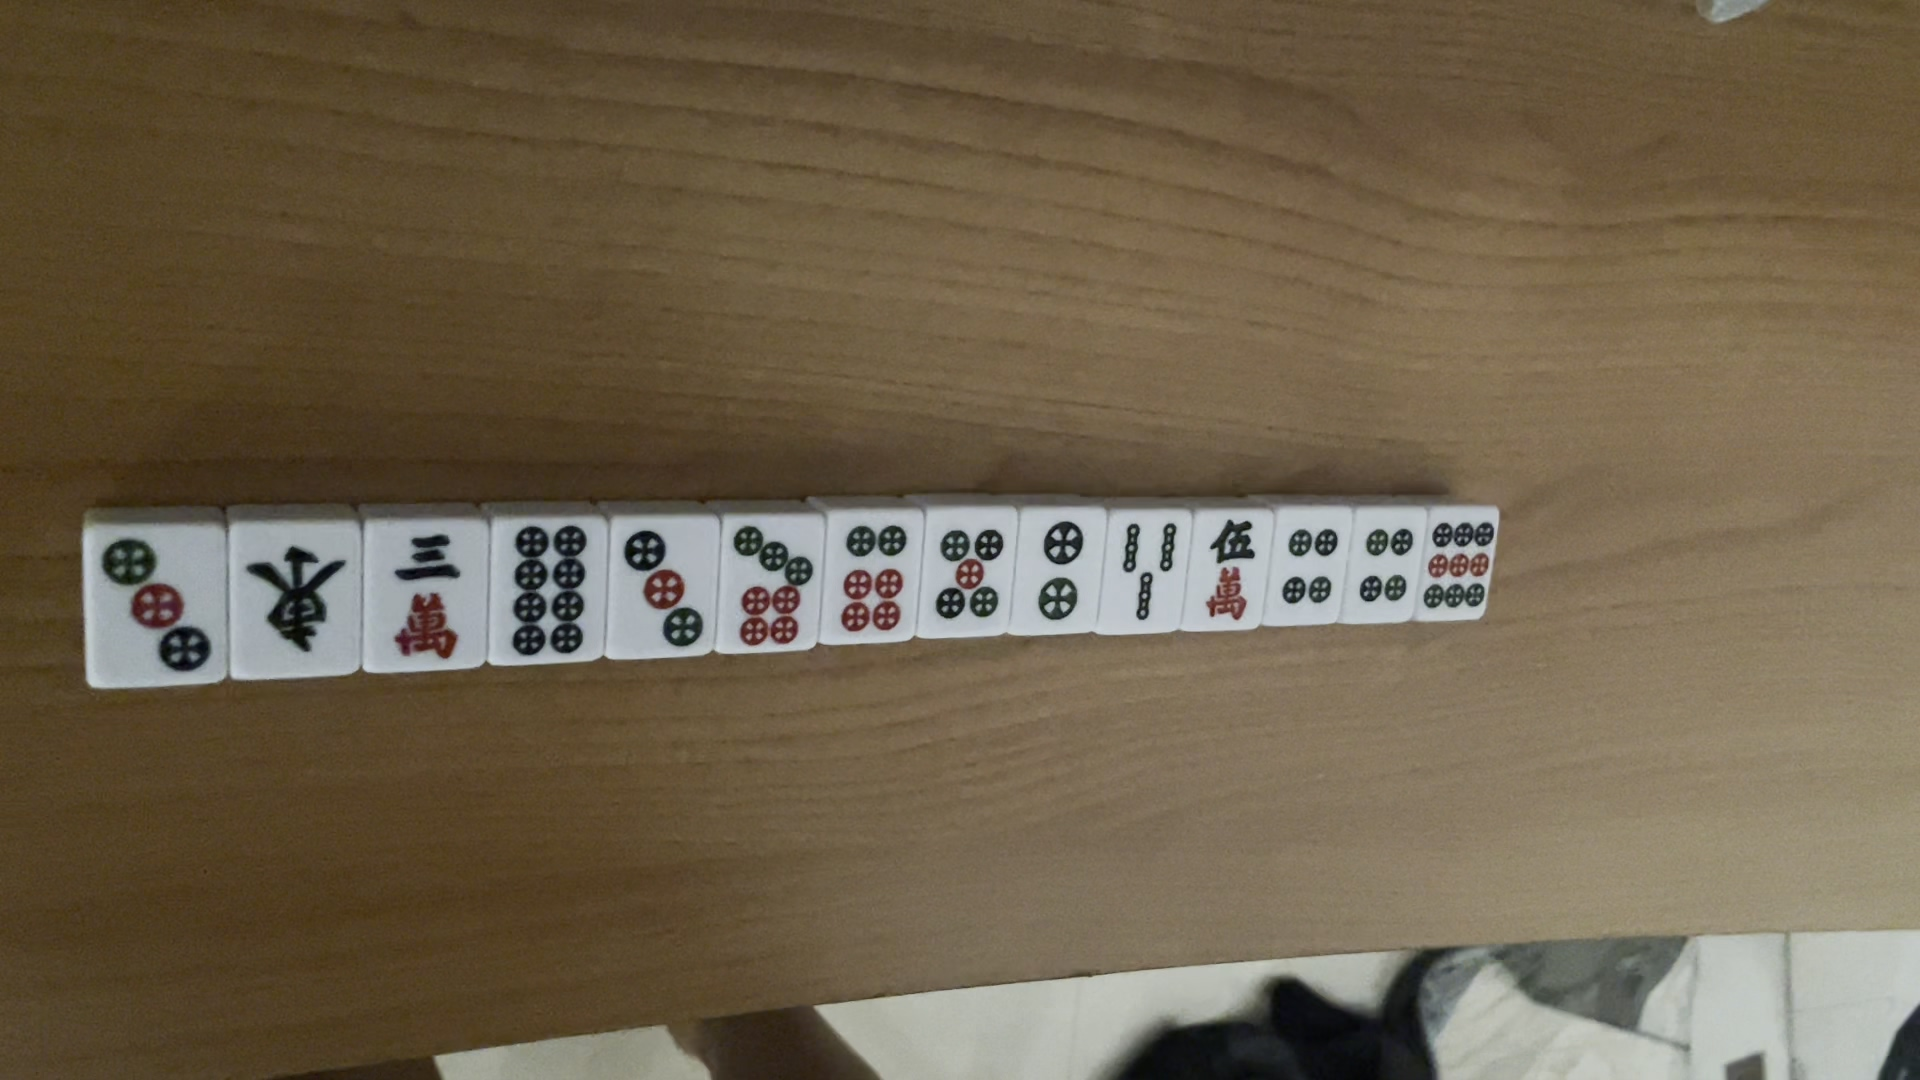b-3: (1120, 517, 1180, 626)
c-3: (382, 530, 464, 659)
c-5: (1203, 516, 1261, 625)
d-2: (1025, 517, 1087, 624)
d-3: (94, 535, 212, 676), (620, 524, 705, 654)
d-4: (1276, 524, 1342, 615), (1354, 521, 1414, 608)
d-6: (836, 522, 910, 633), (932, 524, 1004, 630)
d-7: (723, 525, 816, 647)
d-8: (497, 521, 593, 659)
d-9: (1418, 516, 1495, 609)
honors-east: (237, 537, 353, 665)
